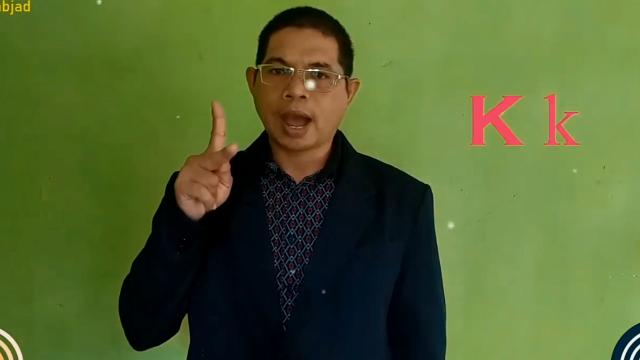K: (166, 95, 250, 224)
